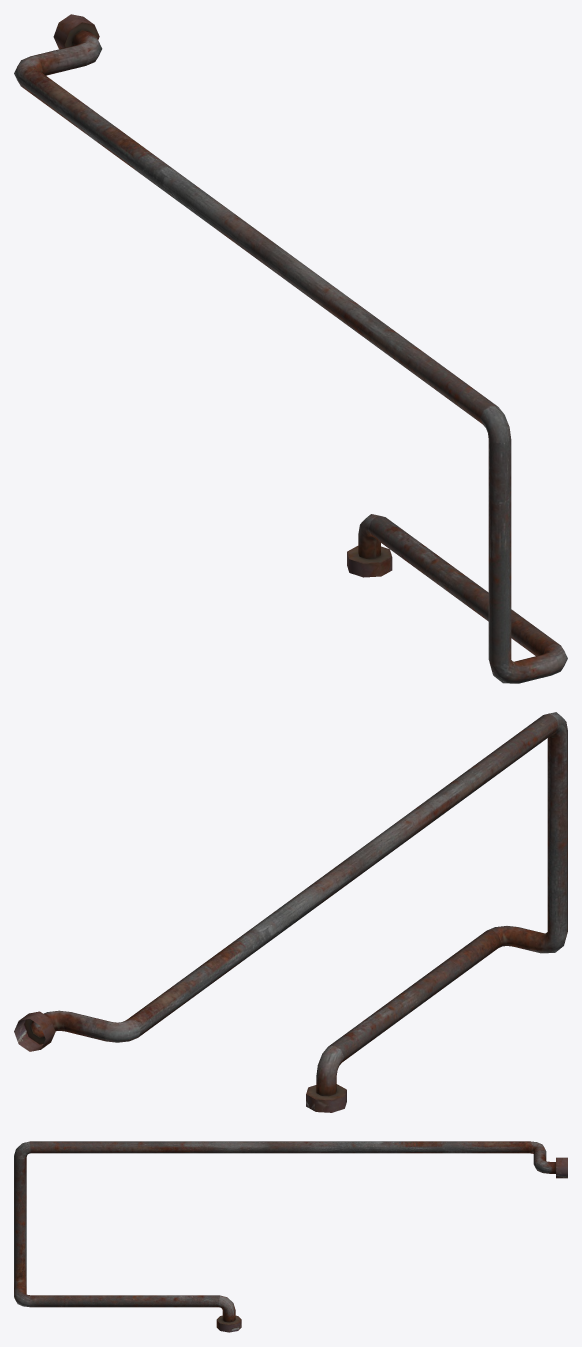
File: PipeSet_02.FBX
The picture shows the model from 3 angles, top to bottom: view 1: azimuth 30°, elevation 25°; view 2: azimuth 150°, elevation 25°; view 3: azimuth 270°, elevation 25°; orthographic projection. The views are drawn at different scales.
Parts seen in each view (by area): view 1: PipeSet_02; view 2: PipeSet_02; view 3: PipeSet_02.
Boxes of the visible parts, x1,y1,x2,y2 form: PipeSet_02: [14, 14, 567, 683]; PipeSet_02: [14, 712, 567, 1112]; PipeSet_02: [14, 1141, 567, 1332].
Size of the model in its own units: 51.92 by 151 by 437.
